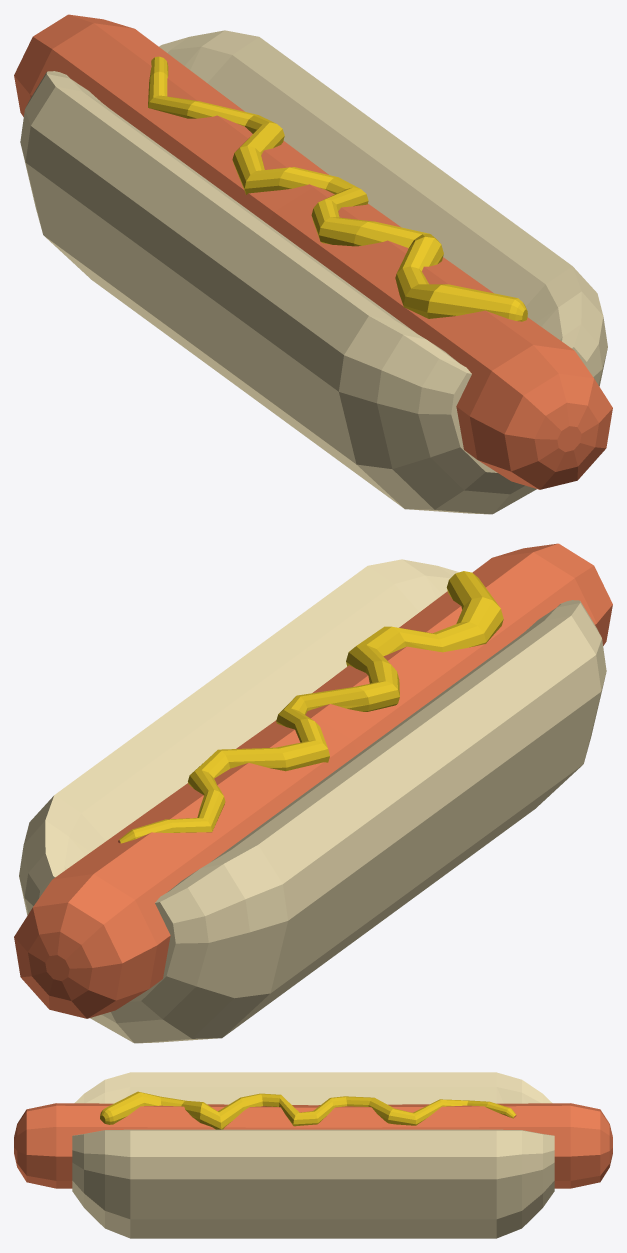
File: Hotdog.glb
The picture shows the model from 3 angles, top to bottom: view 1: azimuth 30°, elevation 25°; view 2: azimuth 150°, elevation 25°; view 3: azimuth 270°, elevation 25°; orthographic projection. The views are drawn at different scales.
Parts seen in each view (by area): view 1: Hotdog; view 2: Hotdog; view 3: Hotdog.
Part boxes in pixels (bbox=[...]): Hotdog: bbox=[14, 14, 612, 514]; Hotdog: bbox=[14, 543, 612, 1043]; Hotdog: bbox=[14, 1072, 612, 1238].
Bounding box in the file's own units: 0.3972 × 0.3277 × 1.33.
1 material, 1 textured.
